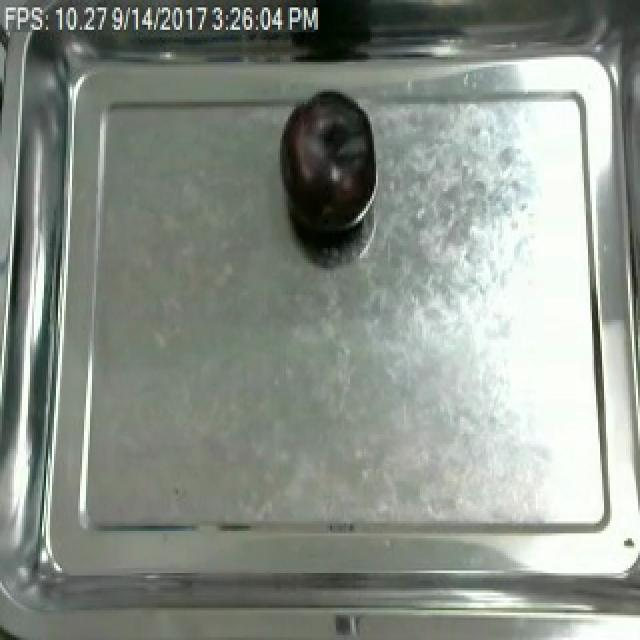Fruit: (274, 89, 378, 248)
